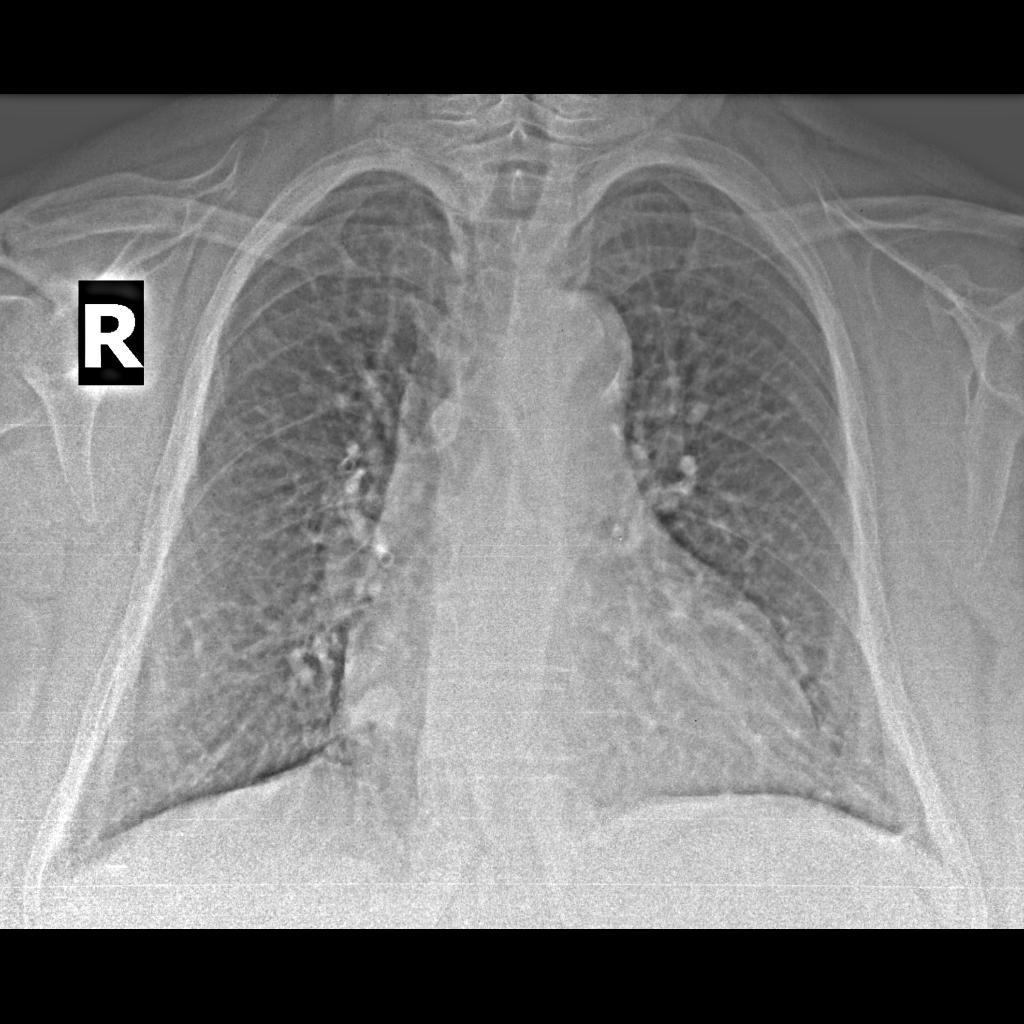Nodule: (355, 684, 404, 735)
